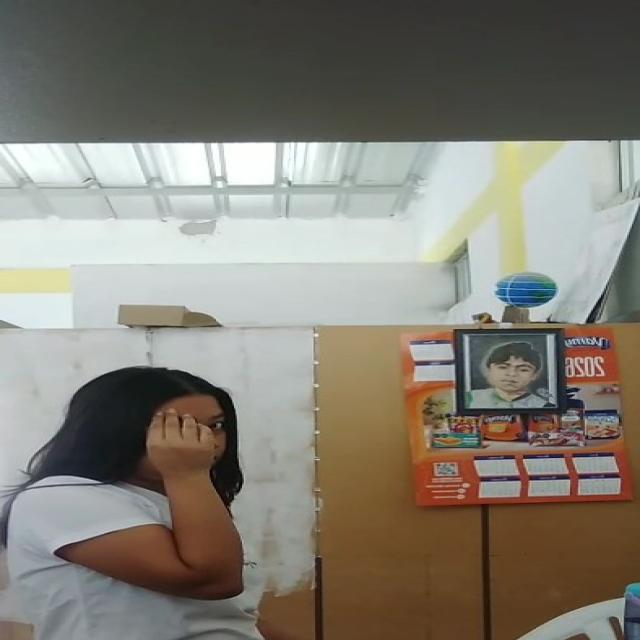7_mano_rostro: (144, 407, 222, 486)
